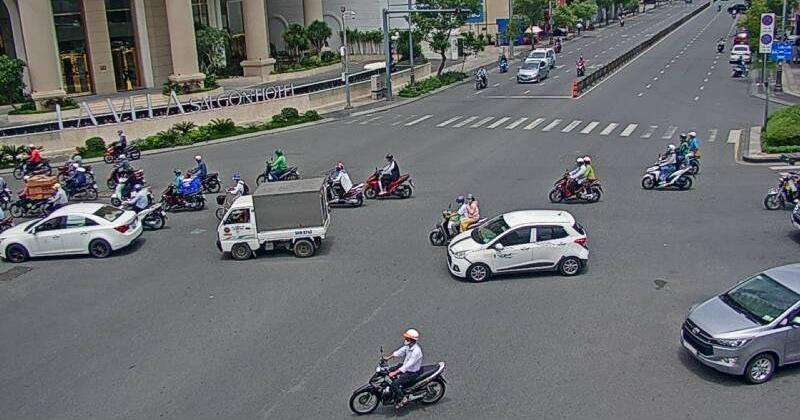xe hoi: (677, 266, 800, 385), (443, 209, 586, 282), (0, 202, 144, 263)
xe may: (348, 328, 444, 413), (429, 192, 492, 244), (548, 156, 604, 205), (363, 151, 413, 199), (319, 159, 366, 207), (641, 146, 688, 190), (158, 168, 203, 210), (256, 147, 301, 186)
xe tai: (214, 175, 331, 258)
